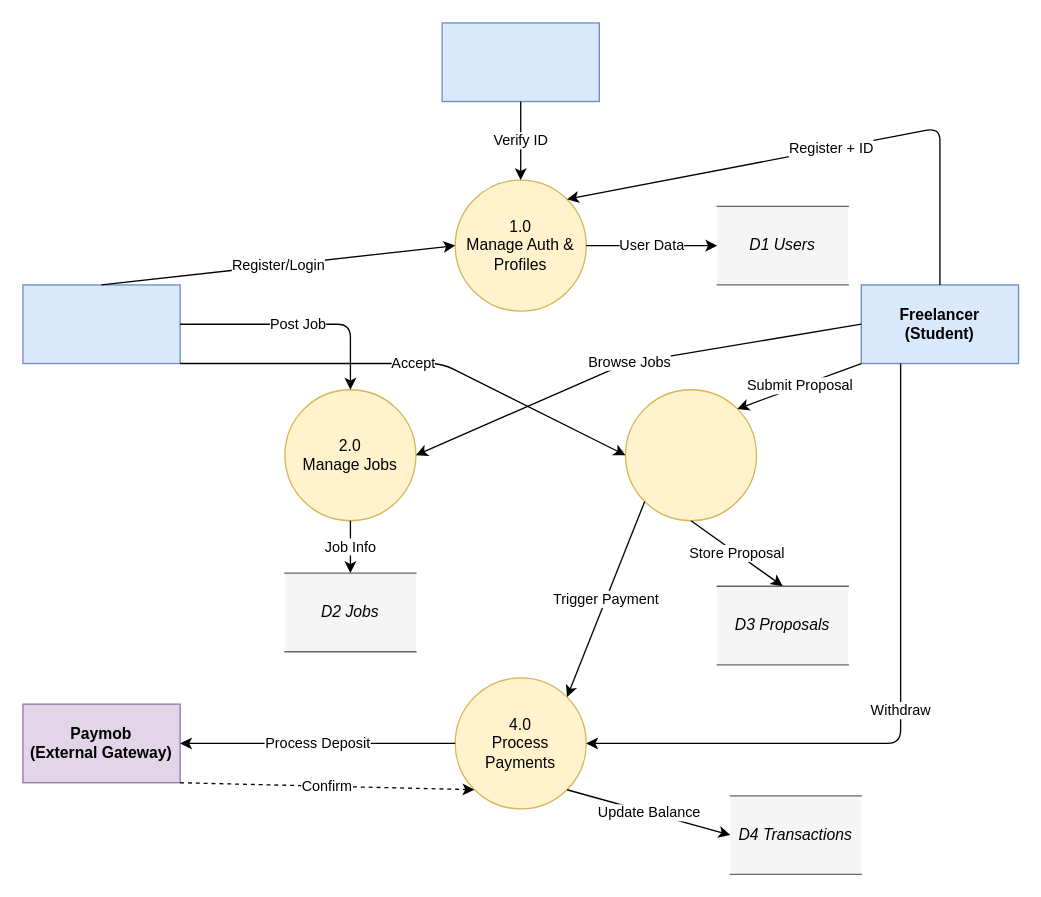
The diagram is 1041 pixels wide and 897 high, and some of its shapes have lost their labels. The shapes that lost their labels are listed below. From the top down, each one's centre as x and y in pixels, then its label:
At pixel 520 62: "Admin".
At pixel 101 324: "Client".
At pixel 690 454: "3.0 Manage Proposals".
